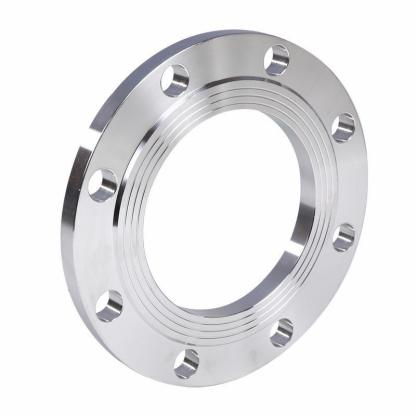FOD: (59, 25, 371, 395)
